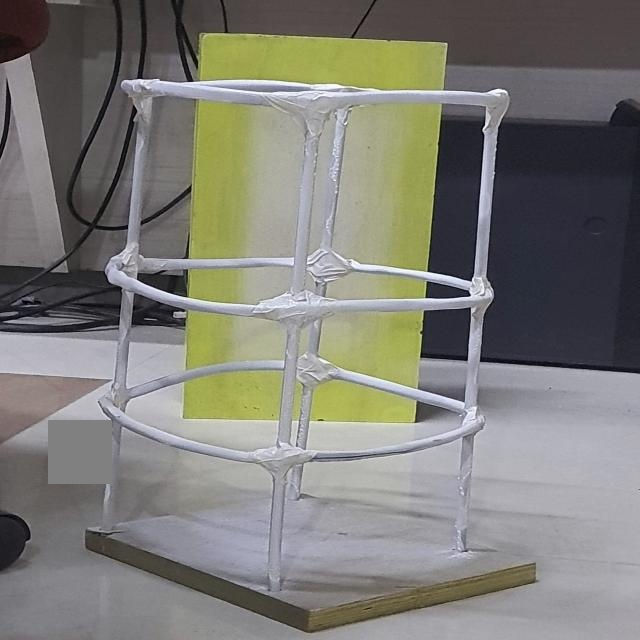silo: (118, 75, 492, 589)
